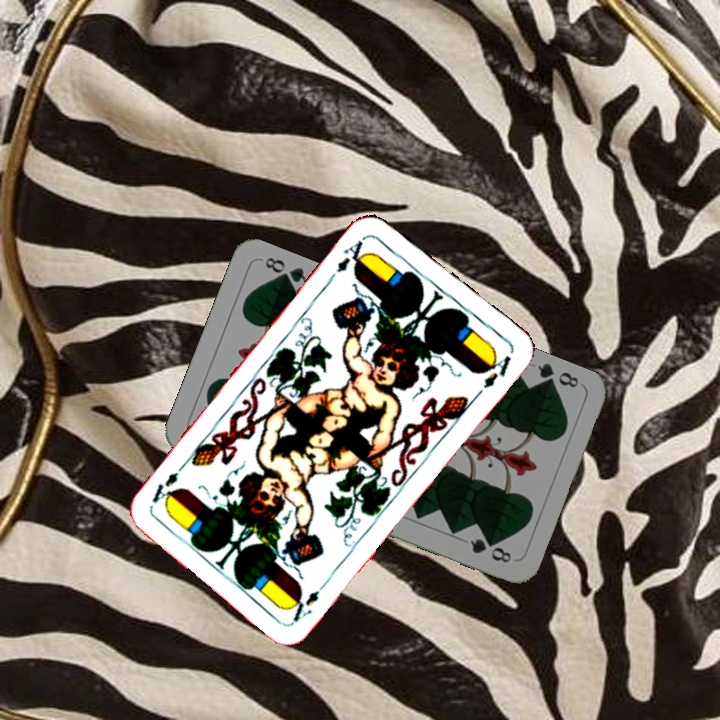EA: (288, 576, 332, 625), (332, 234, 370, 276)
G8: (533, 359, 582, 393)
